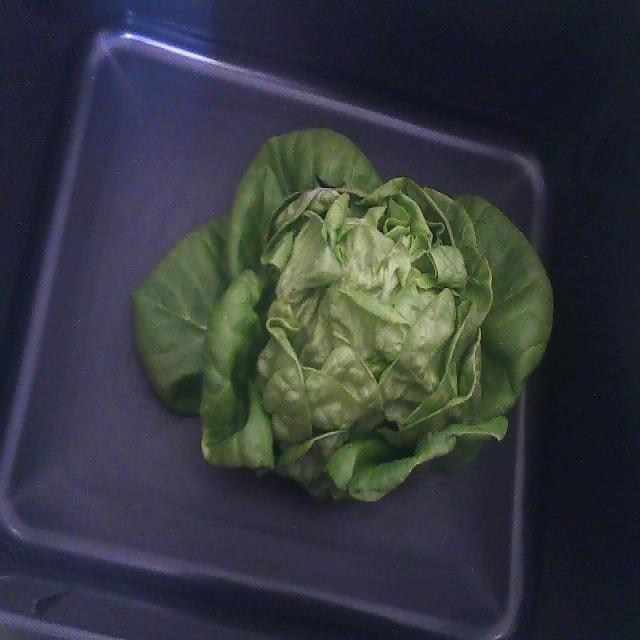lettuce: (134, 129, 552, 499)
